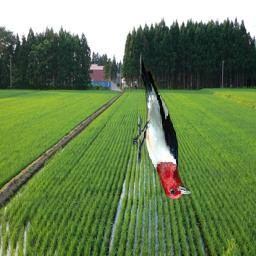Woodpecker: (130, 53, 192, 200)
